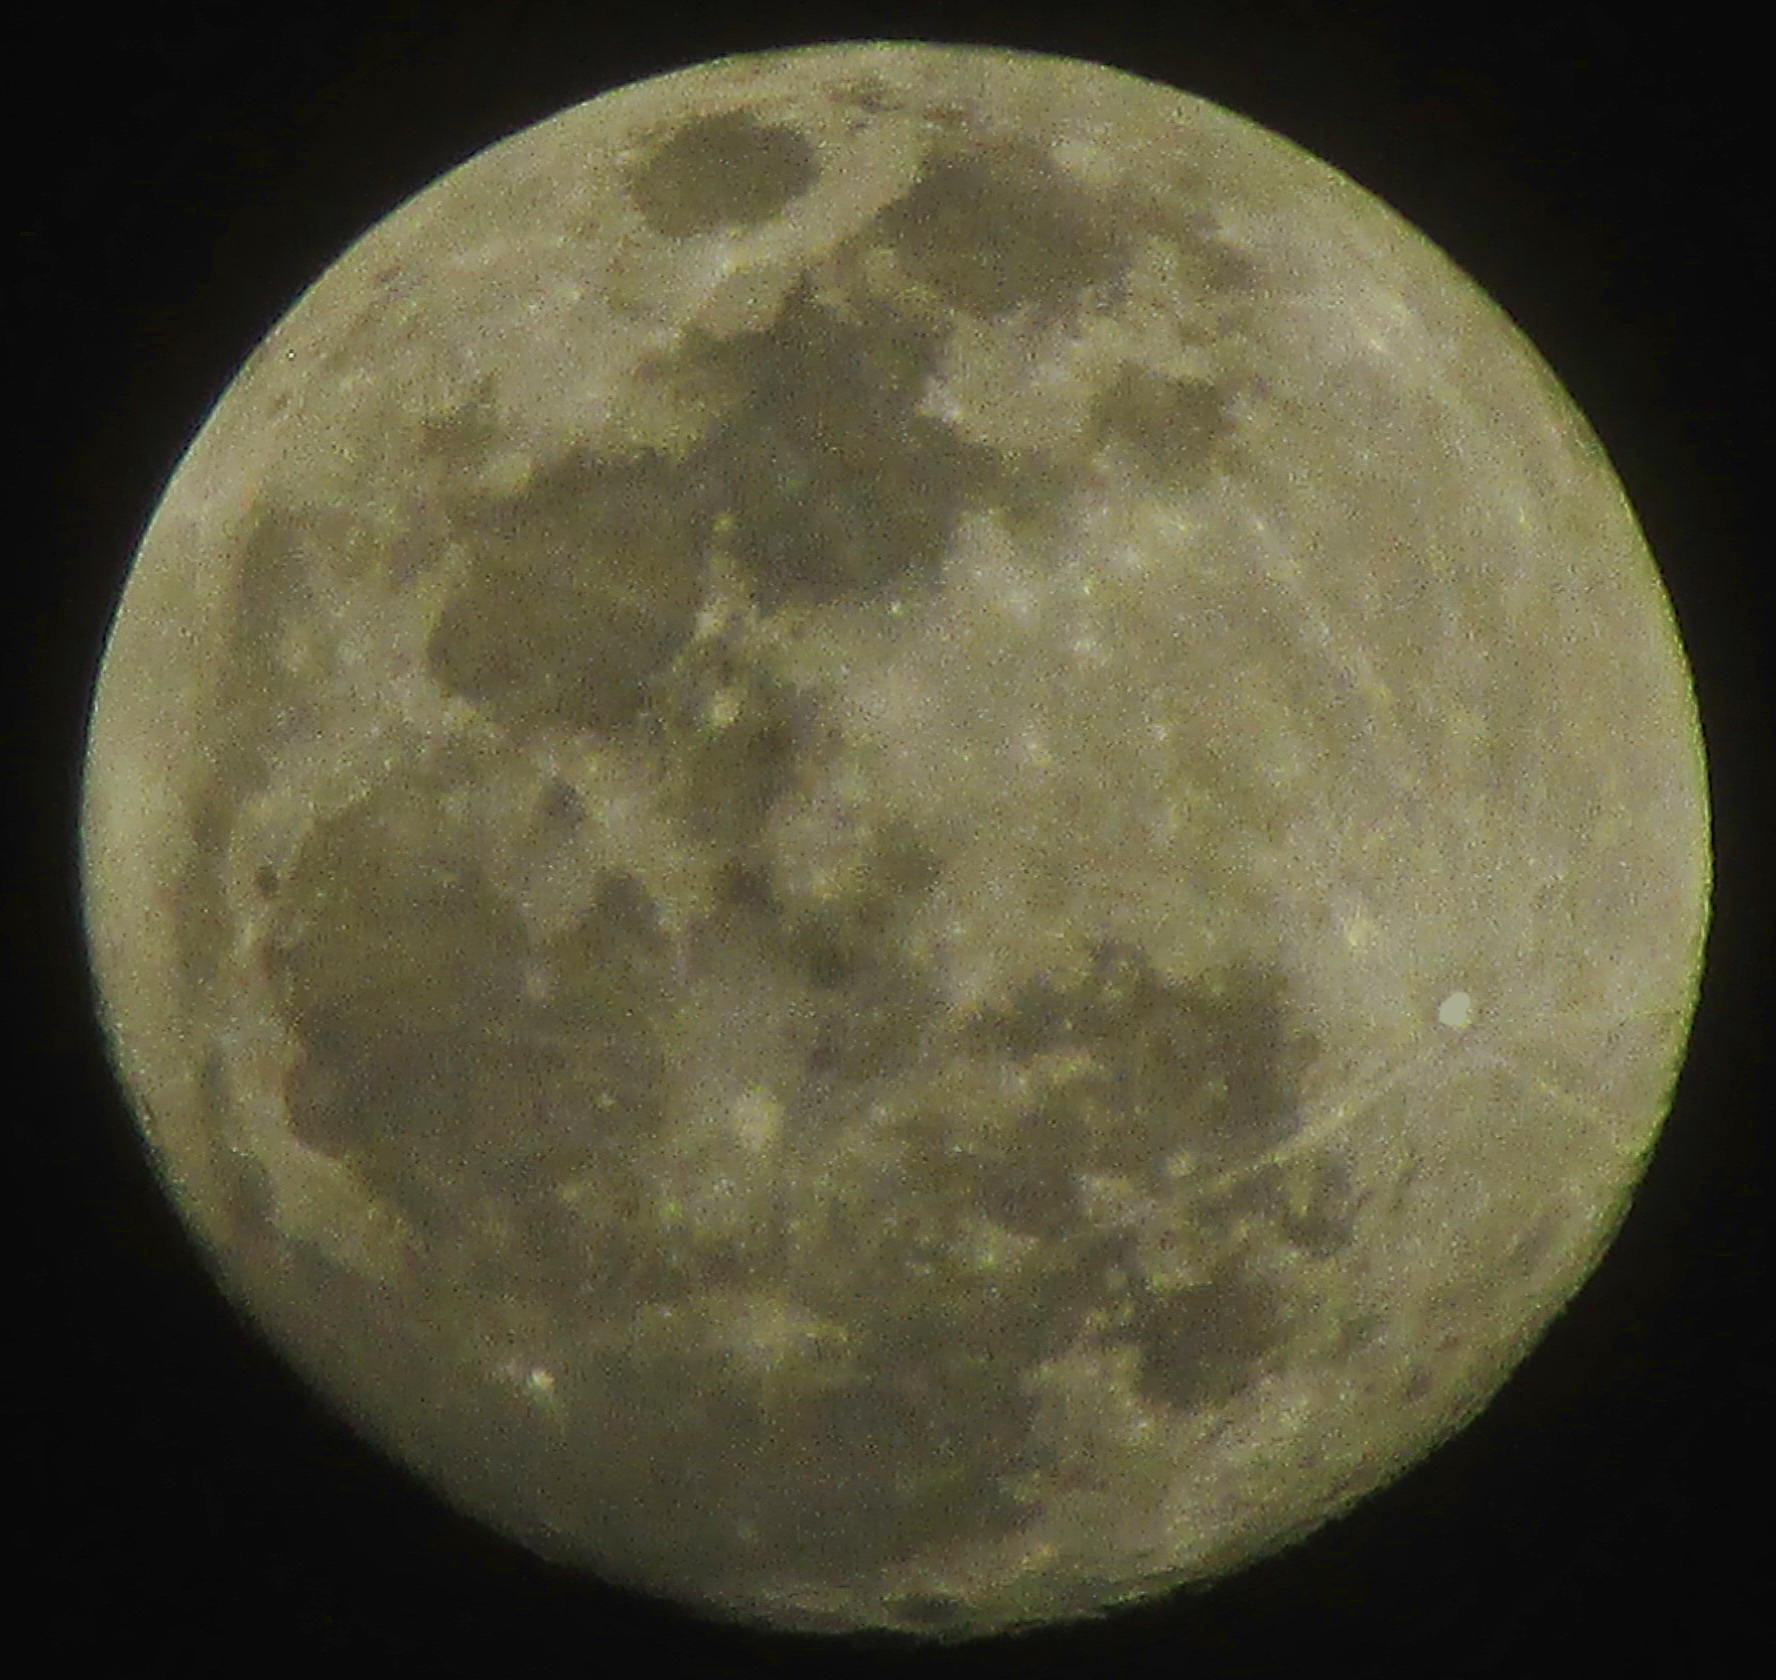crater: (595, 99, 851, 253), (1388, 939, 1541, 1097), (840, 1546, 1023, 1626), (491, 1352, 619, 1423), (238, 832, 290, 922), (873, 583, 933, 647)
